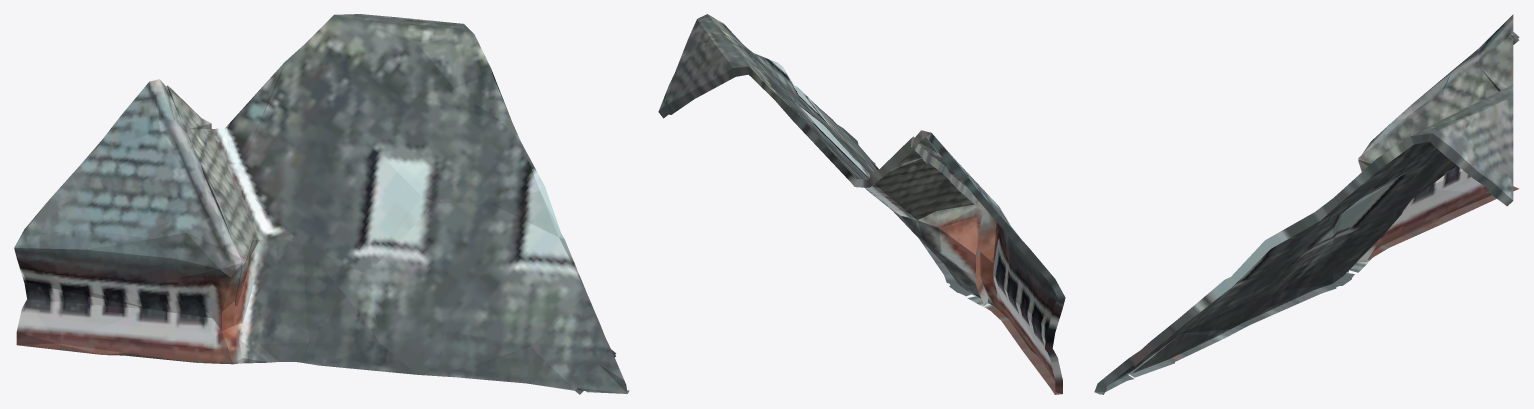
File: BuildingMesh-00069.gltf
3 renders of one model, left to right at view 1: azimuth 30°, elevation 25°; view 2: azimuth 150°, elevation 25°; view 3: azimuth 270°, elevation 25°, orthographic. The views are drawn at different scales.
Visible parts, largest first — view 1: BuildingMesh-00069; view 2: BuildingMesh-00069; view 3: BuildingMesh-00069.
Boxes of the visible parts, bbox=[...] form: BuildingMesh-00069: bbox=[14, 14, 629, 394]; BuildingMesh-00069: bbox=[658, 14, 1065, 394]; BuildingMesh-00069: bbox=[1094, 14, 1519, 394].
Bounding box in the file's own units: 0.6275 × 0.3725 × 0.5372.
Materials: 1 (1 with a texture image).
